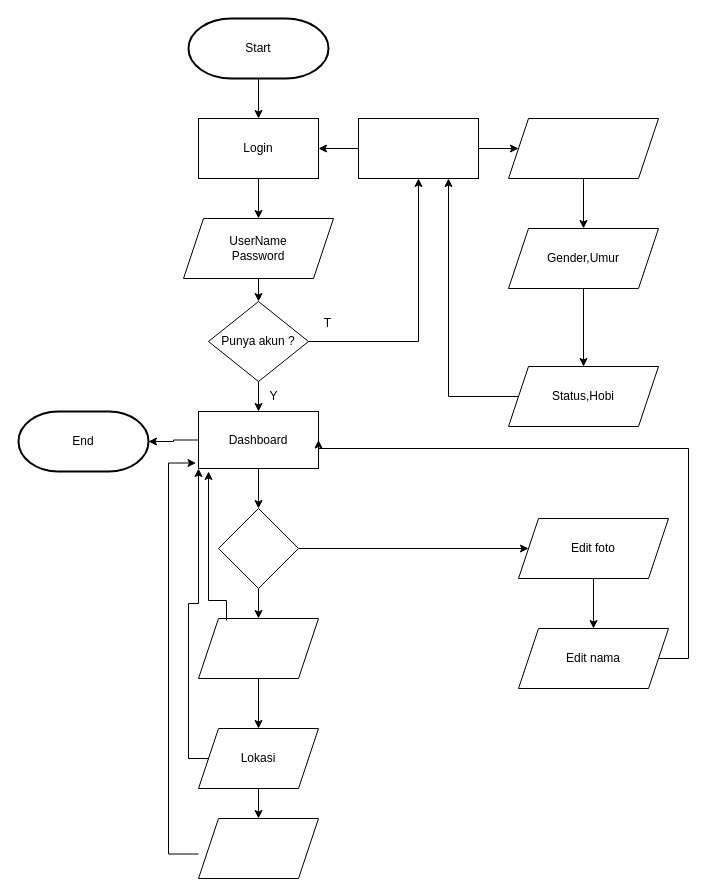
This 714x896 diagram has some shape labels left out. Here are the shapes that lost their labels. From the top down, the box of each, then its label:
(358, 118, 478, 178): Daftar
(508, 118, 658, 178): Username,Password
(218, 508, 298, 588): Edit Profil
(198, 618, 318, 678): Chat
(198, 818, 318, 878): Kontak
